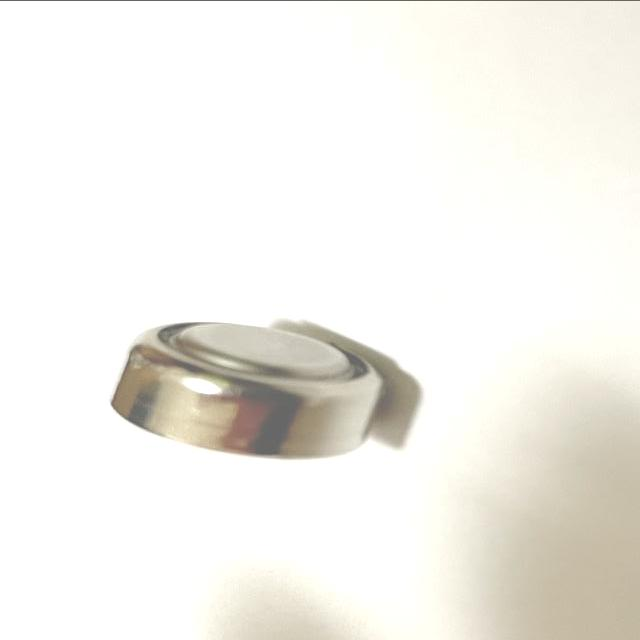COIN: (106, 321, 391, 458)
